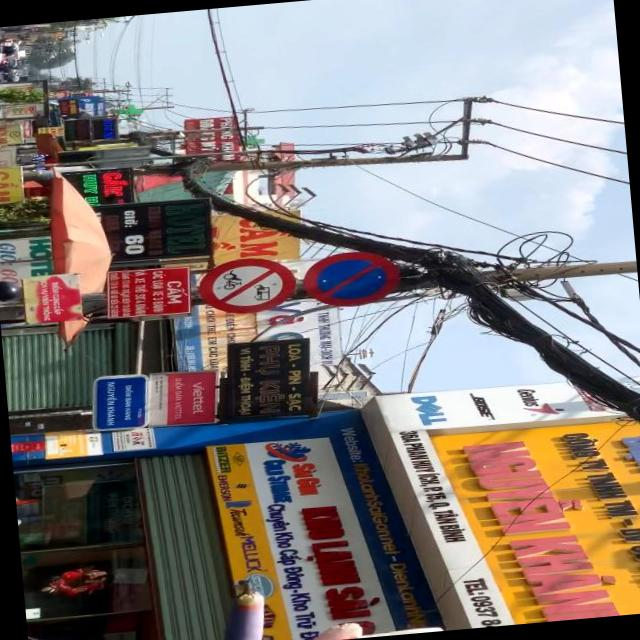P-131a: (304, 248, 404, 309)
